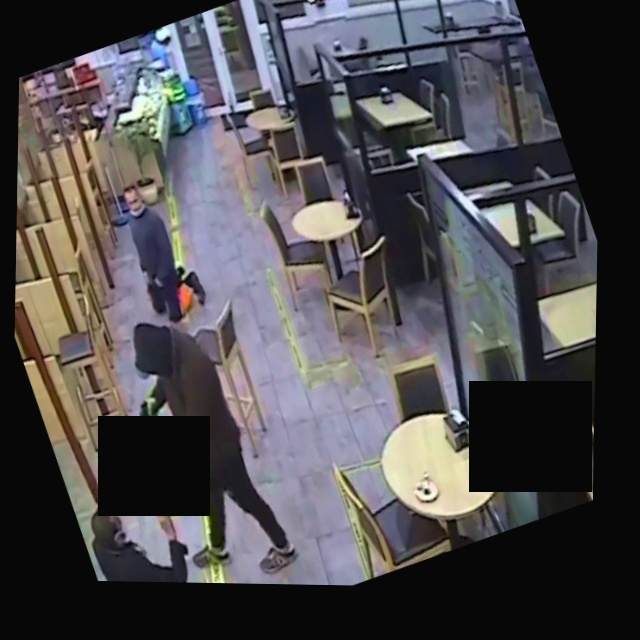gun: (112, 384, 180, 416)
